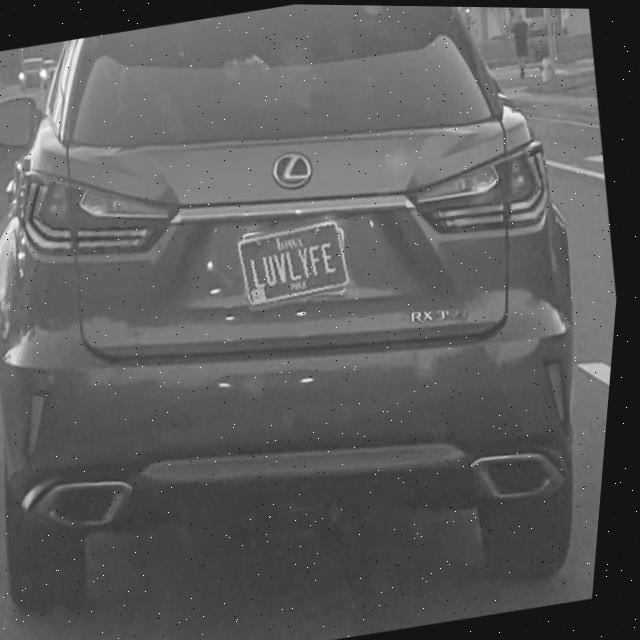LicensePlate: (241, 218, 357, 309)
